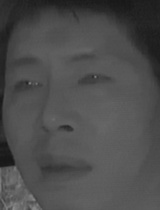eye: (76, 69, 115, 92), (9, 76, 45, 97)
mouth: (35, 147, 94, 184)
